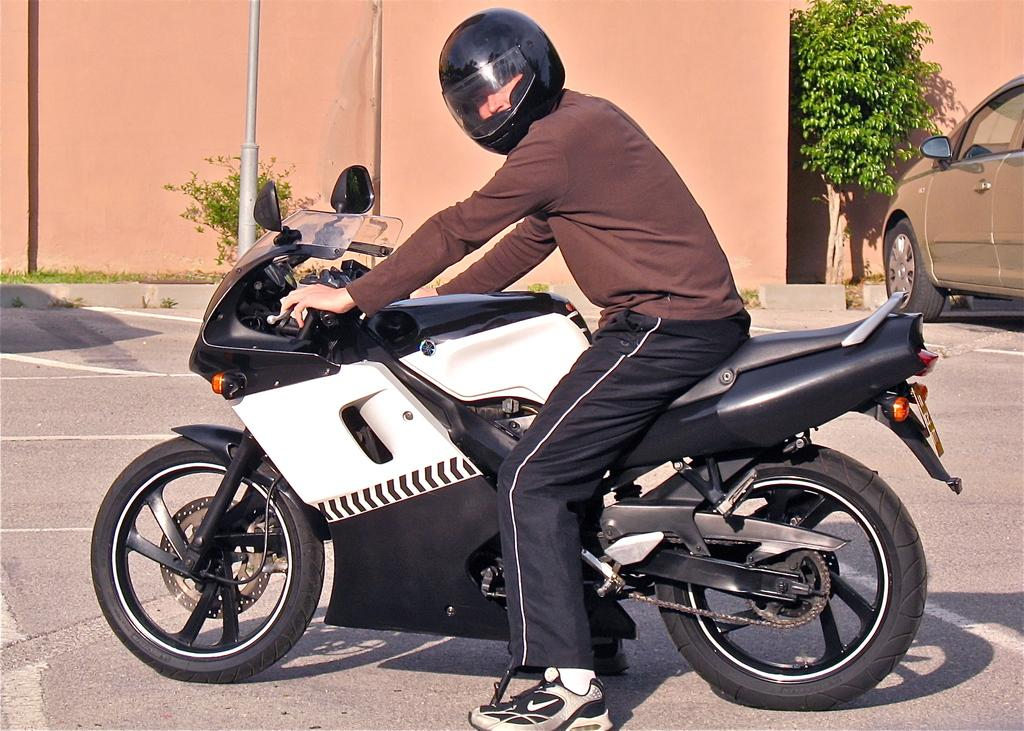helmet: (438, 7, 566, 156)
